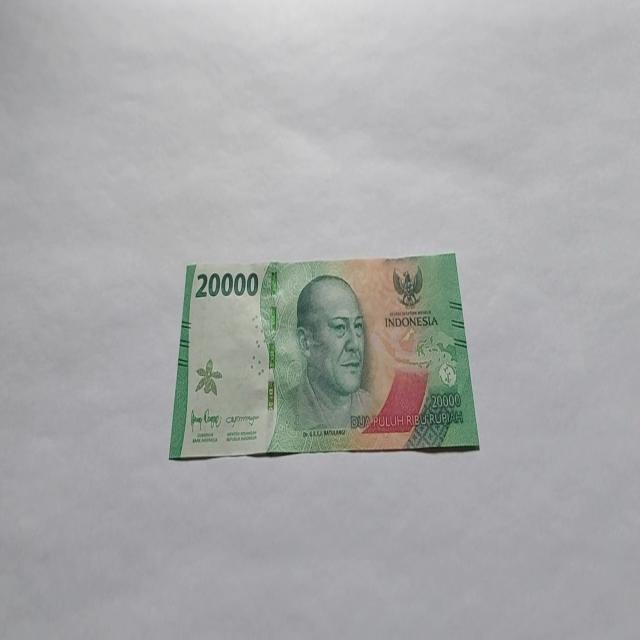dua puluh ribu rupiah: (168, 252, 480, 460)
